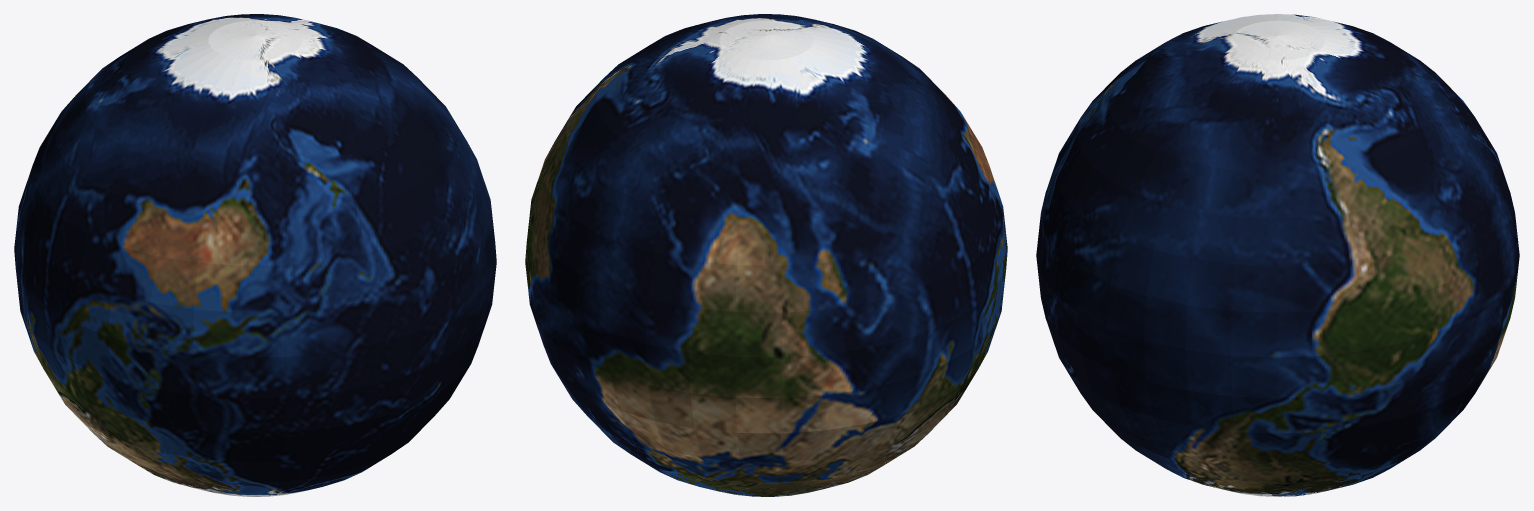
The model's file is globe.dae.
3 renders of one model, left to right at view 1: azimuth 30°, elevation 25°; view 2: azimuth 150°, elevation 25°; view 3: azimuth 270°, elevation 25°, orthographic.
Parts seen in each view (by area): view 1: Sphere_Sphere_000; view 2: Sphere_Sphere_000; view 3: Sphere_Sphere_000.
Boxes of the visible parts, left/top/right/bottom form: Sphere_Sphere_000: left=14, top=14, right=496, bottom=496; Sphere_Sphere_000: left=525, top=14, right=1007, bottom=496; Sphere_Sphere_000: left=1036, top=14, right=1519, bottom=496.
Size of the model in its own units: 2 by 2 by 2.01.
Materials: 1 (1 with a texture image).
